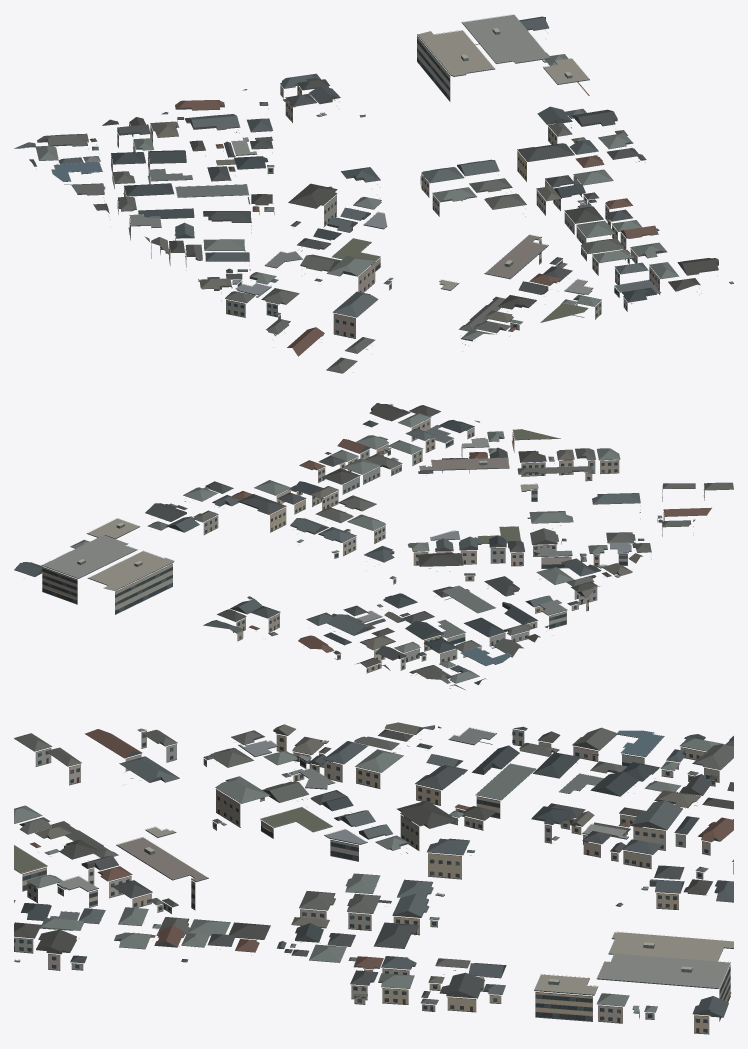
3 views of the same model, one above another, from view 1: azimuth 30°, elevation 25°; view 2: azimuth 150°, elevation 25°; view 3: azimuth 270°, elevation 25° (orthographic). The views are drawn at different scales.
Visible parts, largest first — view 1: r6-c0; view 2: r6-c0; view 3: r6-c0.
Boxes of the visible parts, box(x1,y1,x2,y2) form: r6-c0: box(14, 14, 733, 373); r6-c0: box(14, 403, 733, 689); r6-c0: box(14, 722, 733, 1034).
Bounding box in the file's own units: 239 × 14.33 × 250.
